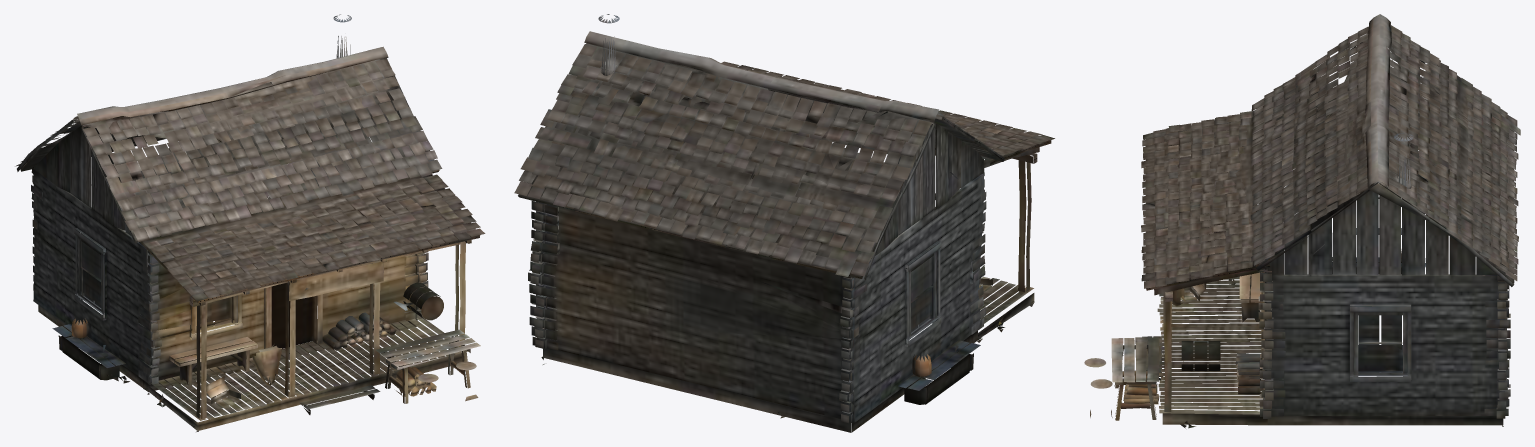
The model's file is neighbor_cabin.glb.
3 views of the same model, side by side, from view 1: azimuth 30°, elevation 25°; view 2: azimuth 150°, elevation 25°; view 3: azimuth 270°, elevation 25° (orthographic). The views are drawn at different scales.
Parts seen in each view (by area): view 1: NeighborShell; view 2: NeighborShell; view 3: NeighborShell.
Part boxes in pixels (x1=…): NeighborShell: x1=15, y1=14, x2=485, y2=431; NeighborShell: x1=514, y1=14, x2=1054, y2=432; NeighborShell: x1=1084, y1=14, x2=1520, y2=428.
Size of the model in its own units: 4.92 by 4.09 by 5.53.
Materials: 1 (1 with a texture image).
